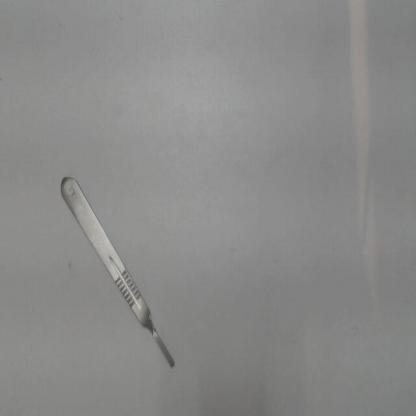No.4 BP Handle: (48, 161, 183, 381)
